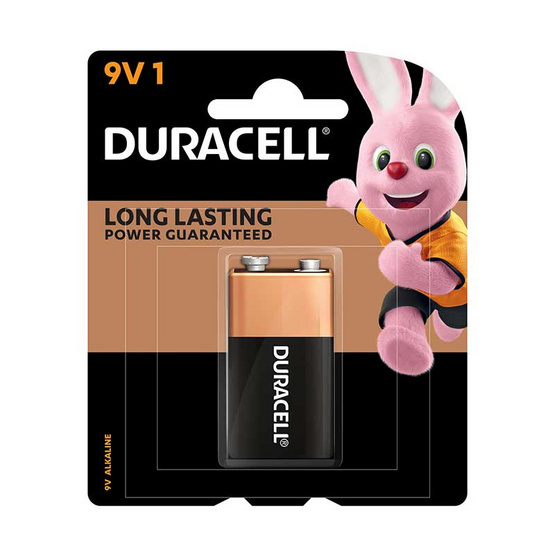Battery: (226, 252, 335, 463)
